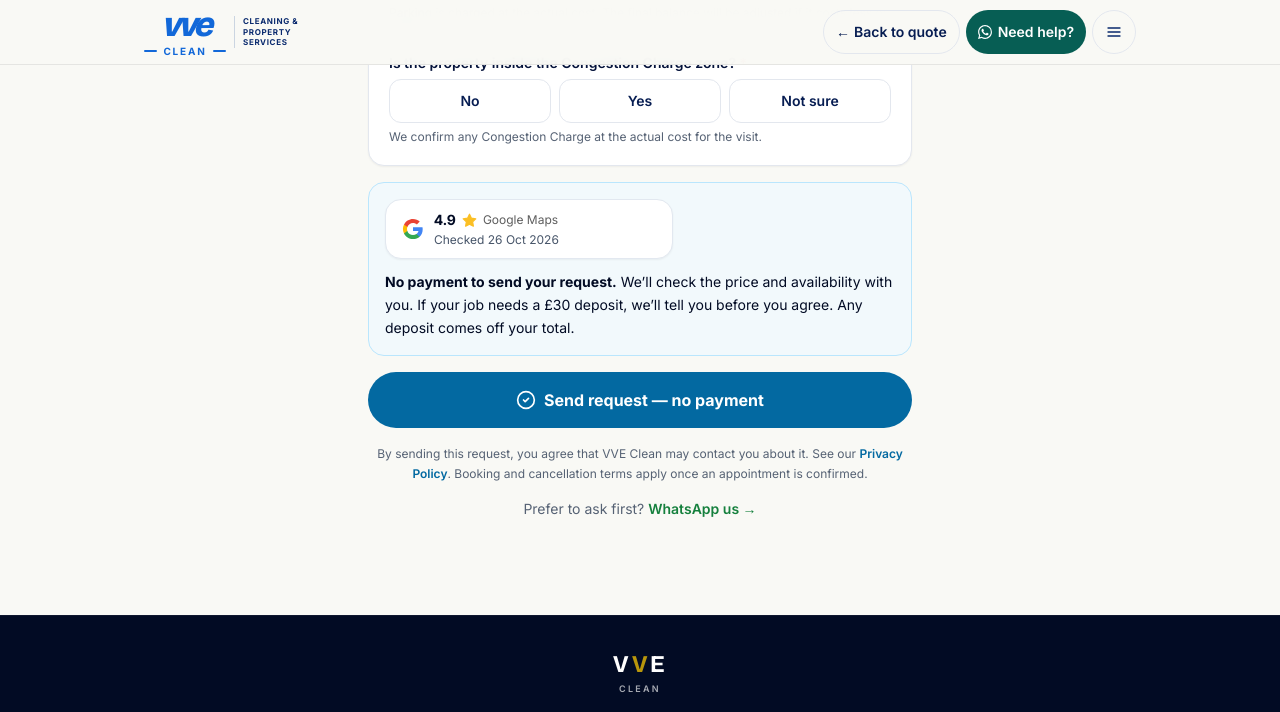
Test: BookingPage — error summary › names the field rather than repeating the inline error sentence
This screenshot has width=1280, height=712.
(page scrolled)
Click the button "Send request — no payment" at (640, 400), box [368,372,912,428]
(page scrolled)
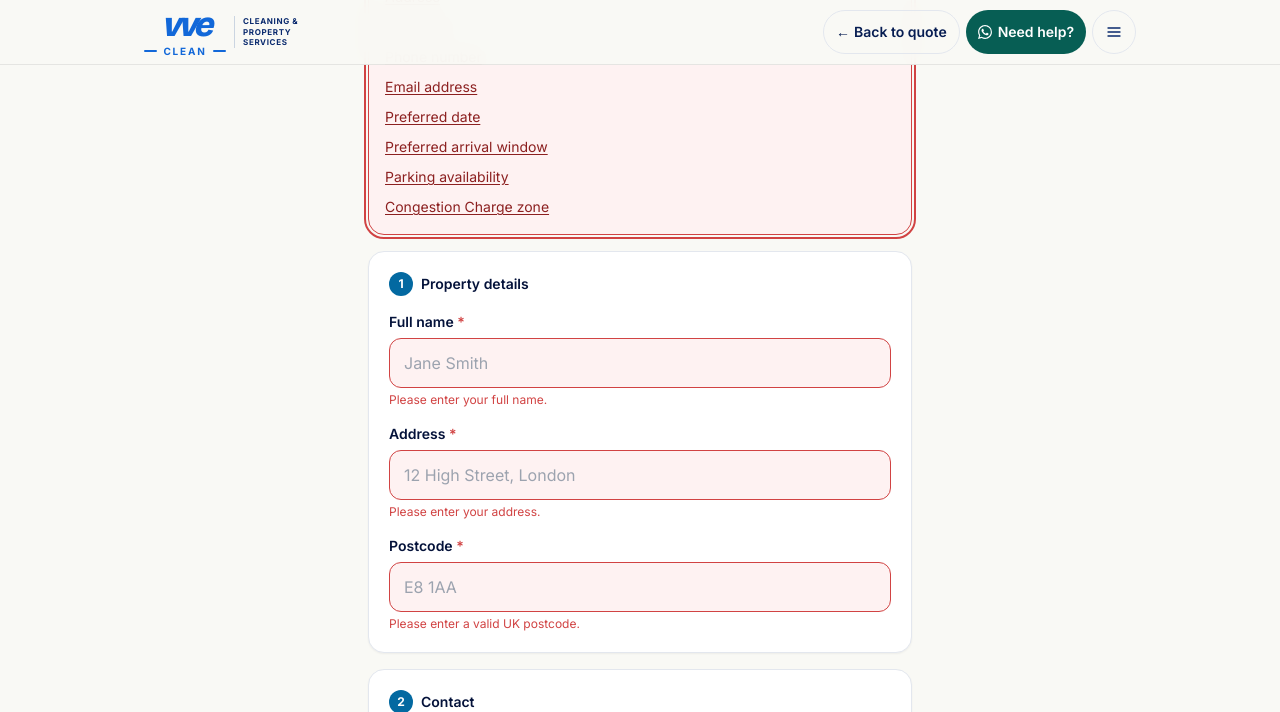
Check: the text "Please enter your full name." is shown, box [389,392,547,407]
